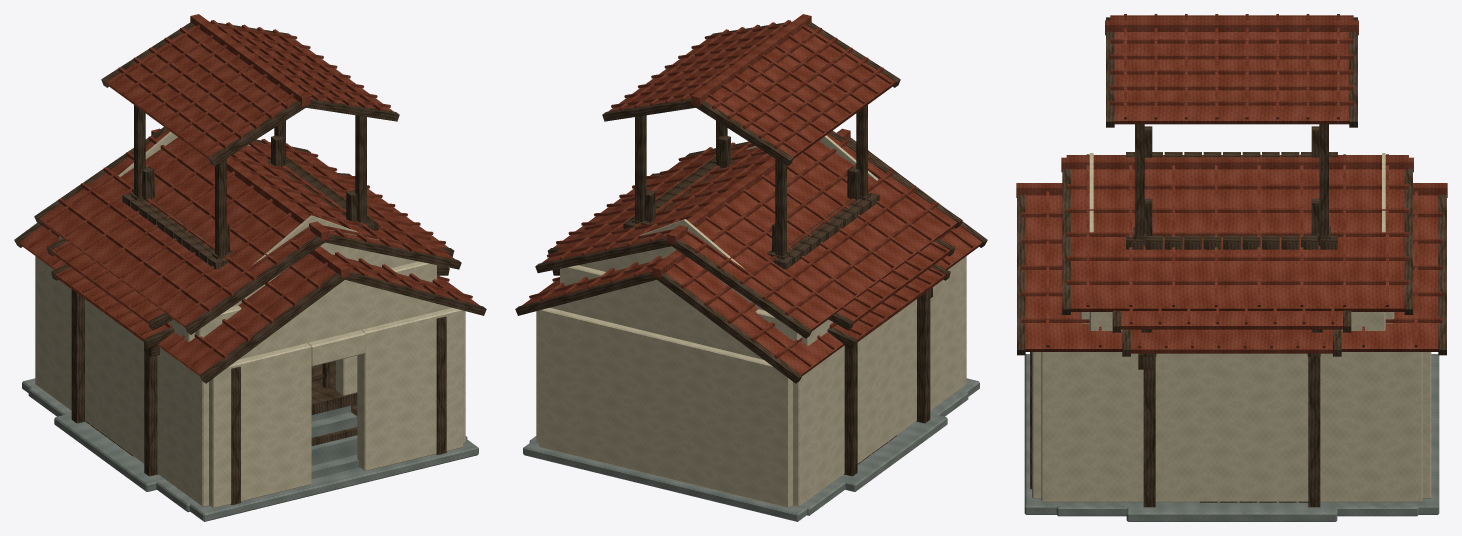
Rendered from danube-military-kit.glb.
The picture shows the model from 3 angles, left to right: view 1: azimuth 30°, elevation 25°; view 2: azimuth 150°, elevation 25°; view 3: azimuth 270°, elevation 25°; orthographic projection. The views are drawn at different scales.
Parts seen in each view (by area): view 1: barrack_gable_Weathered, storehouse_raised_Oxide, watch_platform_Oxide, watch_platform_Weathered, barrack_gable_Oxide, barrack_gable_Weathered.001, storehouse_raised_Weathered.001, storehouse_raised_Weathered, tiled_portico_Weathered, barrack_gable_River-worn, storehouse_raised_River-worn, timber_gate_Oxide (+3 smaller); view 2: barrack_gable_Weathered, storehouse_raised_Oxide, watch_platform_Oxide, watch_platform_Weathered, barrack_gable_Oxide, tiled_portico_Weathered, barrack_gable_River-worn, storehouse_raised_Weathered.001, barrack_gable_Weathered.001, storehouse_raised_Weathered, timber_gate_Oxide, tiled_portico_River-worn (+3 smaller); view 3: barrack_gable_Weathered, storehouse_raised_Oxide, watch_platform_Oxide, barrack_gable_Oxide, watch_platform_Weathered, tiled_portico_Oxide, tiled_portico_Weathered, timber_gate_Oxide, tiled_portico_River-worn, barrack_gable_River-worn, barrack_gable_Weathered.001, storehouse_raised_Weathered.001 (+3 smaller).
Boxes of the visible parts, box(x1,y1,x2,y2) form: barrack_gable_Weathered: box(35, 256, 465, 508); storehouse_raised_Oxide: box(39, 130, 454, 327); watch_platform_Oxide: box(106, 14, 393, 159); watch_platform_Weathered: box(101, 21, 399, 387); barrack_gable_Oxide: box(19, 128, 479, 375); barrack_gable_Weathered.001: box(14, 222, 486, 505); storehouse_raised_Weathered.001: box(34, 127, 461, 414); storehouse_raised_Weathered: box(59, 131, 436, 395); tiled_portico_Weathered: box(51, 264, 449, 476); barrack_gable_River-worn: box(22, 378, 478, 521); storehouse_raised_River-worn: box(28, 386, 467, 511); timber_gate_Oxide: box(51, 175, 448, 323); barrack_gable_Weathered: box(536, 256, 966, 507); storehouse_raised_Oxide: box(542, 133, 957, 330); watch_platform_Oxide: box(608, 14, 895, 159); watch_platform_Weathered: box(602, 21, 900, 269); barrack_gable_Oxide: box(522, 128, 982, 375); tiled_portico_Weathered: box(552, 264, 950, 476); barrack_gable_River-worn: box(523, 378, 979, 521); storehouse_raised_Weathered.001: box(535, 130, 962, 338); barrack_gable_Weathered.001: box(515, 137, 987, 383); storehouse_raised_Weathered: box(560, 135, 878, 345); timber_gate_Oxide: box(553, 175, 950, 323); tiled_portico_River-worn: box(837, 413, 947, 491); barrack_gable_Weathered: box(1032, 352, 1431, 502); storehouse_raised_Oxide: box(1061, 154, 1413, 311); watch_platform_Oxide: box(1105, 14, 1358, 124); barrack_gable_Oxide: box(1016, 183, 1447, 351); watch_platform_Weathered: box(1106, 17, 1357, 249); tiled_portico_Oxide: box(1131, 329, 1332, 353); tiled_portico_Weathered: box(1122, 329, 1341, 507); timber_gate_Oxide: box(1121, 305, 1342, 329); tiled_portico_River-worn: box(1126, 502, 1337, 521); barrack_gable_River-worn: box(1024, 354, 1439, 514); barrack_gable_Weathered.001: box(1017, 194, 1446, 489); storehouse_raised_Weathered.001: box(1062, 169, 1412, 314).
Bounding box in the file's own units: 6.04 × 6.99 × 6.56.
Materials: 4 (4 with a texture image).
